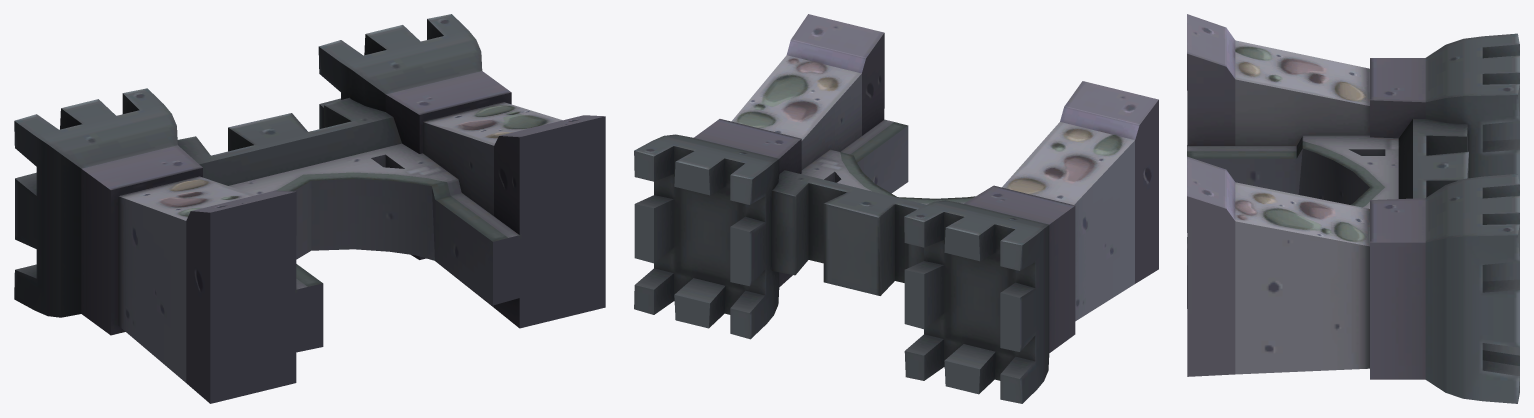
The model's file is Archway.fbx.
3 renders of one model, left to right at view 1: azimuth 30°, elevation 25°; view 2: azimuth 150°, elevation 25°; view 3: azimuth 270°, elevation 25°, orthographic. The views are drawn at different scales.
Parts seen in each view (by area): view 1: Archway; view 2: Archway; view 3: Archway.
Part boxes in pixels (<box>): Archway: <box>14,14,605,403</box>; Archway: <box>634,14,1158,403</box>; Archway: <box>1187,14,1519,403</box>.
Bounding box in the file's own units: 429 × 198 × 299.
